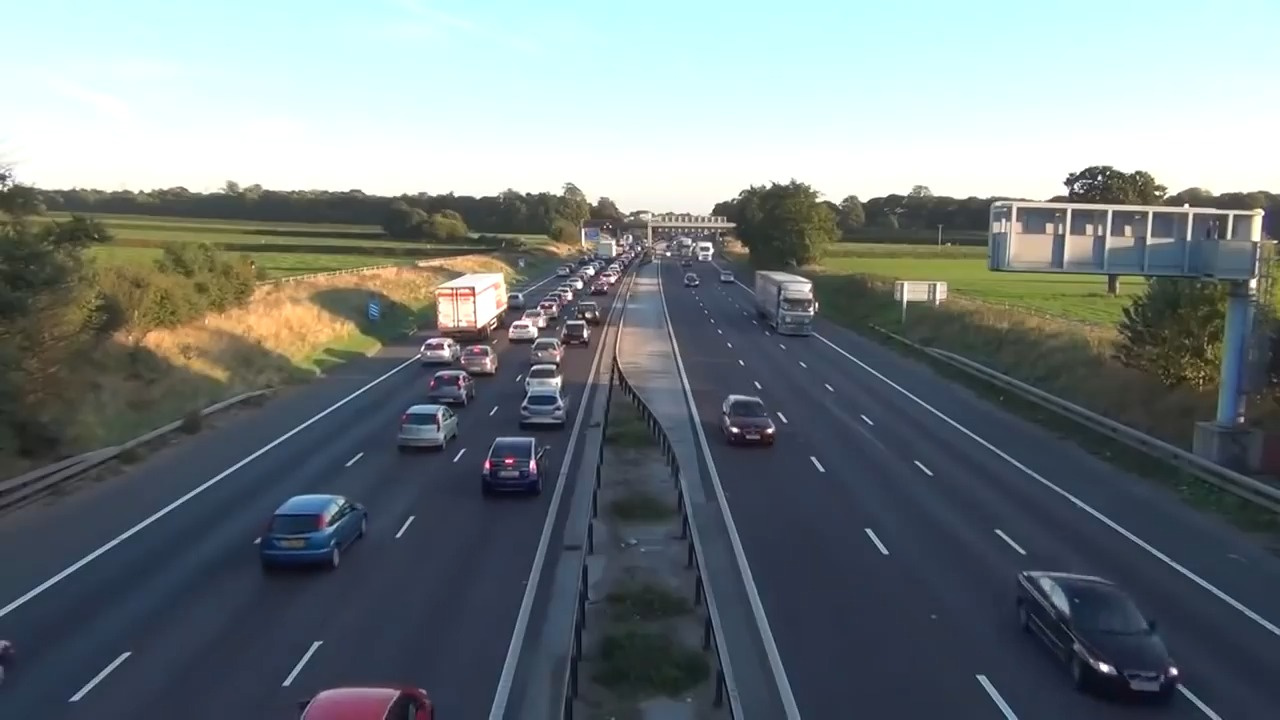truck: (432, 264, 517, 339), (750, 262, 819, 340)
